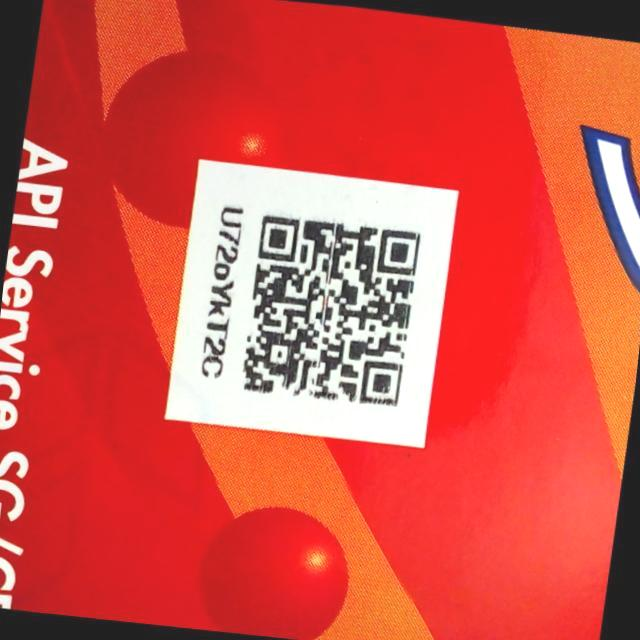QRCode: (233, 199, 432, 424)
